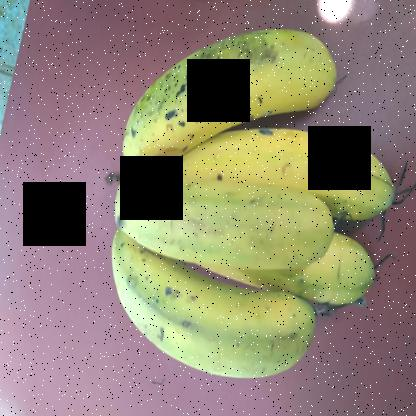ripe: (111, 6, 356, 165), (94, 146, 337, 281), (98, 237, 310, 389), (151, 129, 396, 217), (269, 249, 408, 320)
